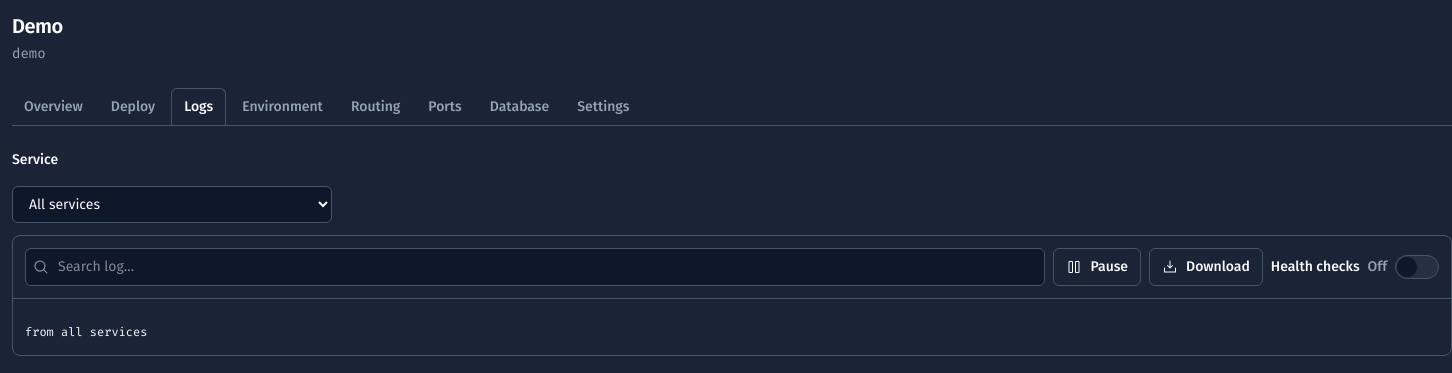
Test: ProjectPage overview, logs, and migrations › lists compose services in the log filter and requests that service
expect the text "from all services" is shown: met, box x1=25 y1=324 x2=147 y2=340
Step 1. Select "backend" in the dropdown labelled "Service" → [172, 204], box x1=12 y1=186 x2=332 y2=223
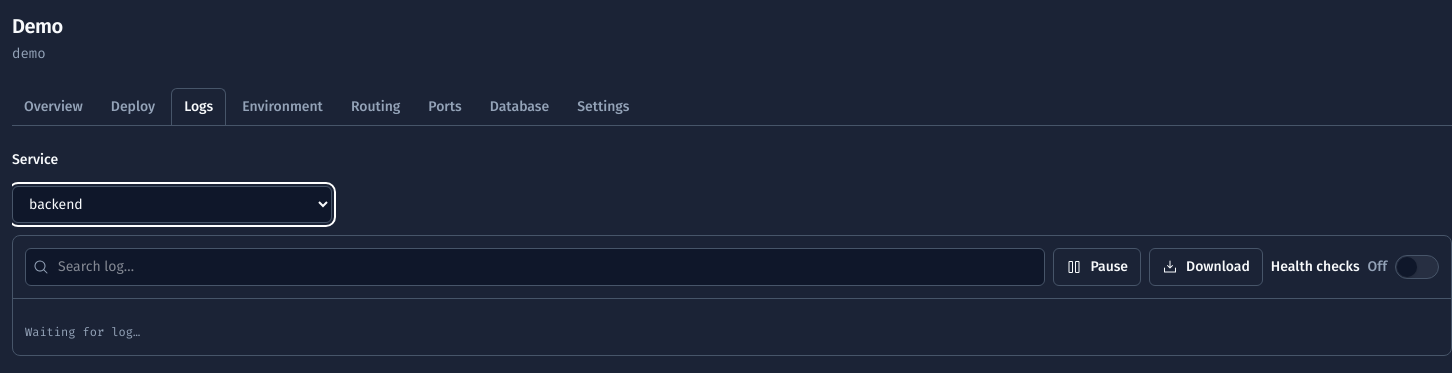
expect the text "from all services" is gone: met
